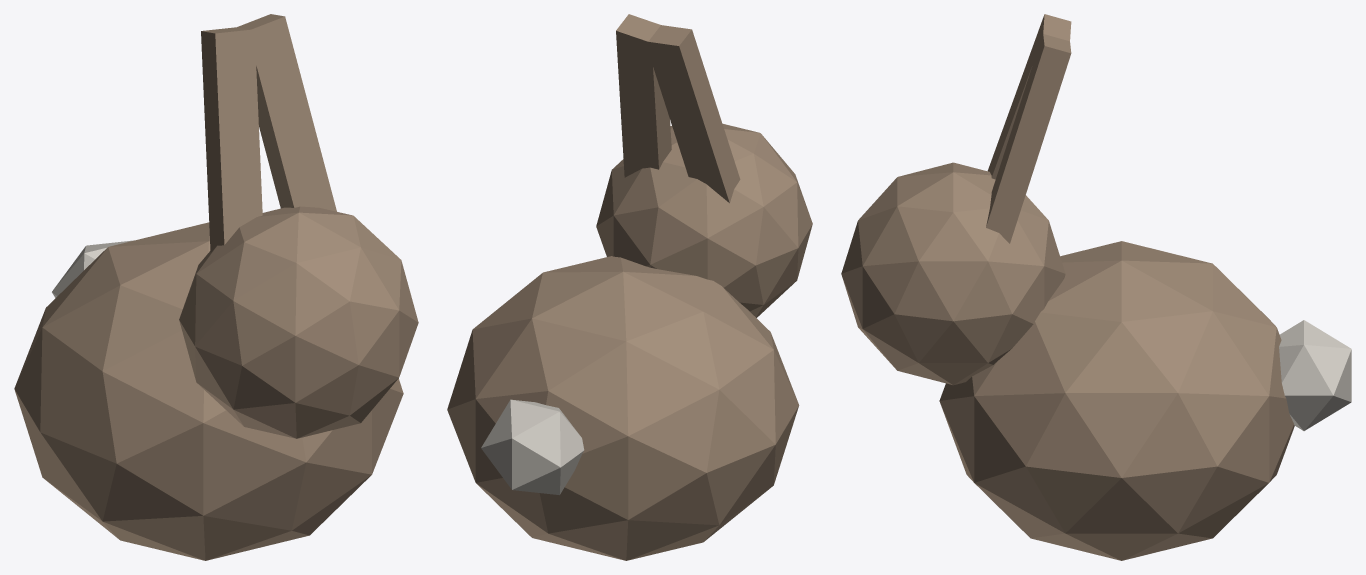
Rendered from rabbit.glb.
3 views of the same model, side by side, from view 1: azimuth 30°, elevation 25°; view 2: azimuth 150°, elevation 25°; view 3: azimuth 270°, elevation 25° (orthographic). The views are drawn at different scales.
Parts seen in each view (by area): view 1: rabbit; view 2: rabbit; view 3: rabbit.
Boxes of the visible parts, bbox=[...] form: rabbit: bbox=[14, 14, 418, 560]; rabbit: bbox=[447, 14, 812, 560]; rabbit: bbox=[841, 14, 1351, 560].
Bounding box in the file's own units: 0.025 × 0.0386 × 0.0349.
